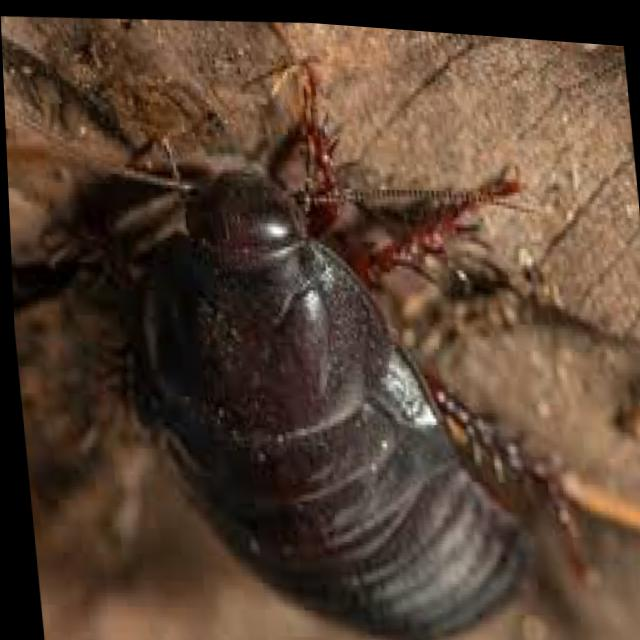Cockroach: (0, 0, 599, 640)
